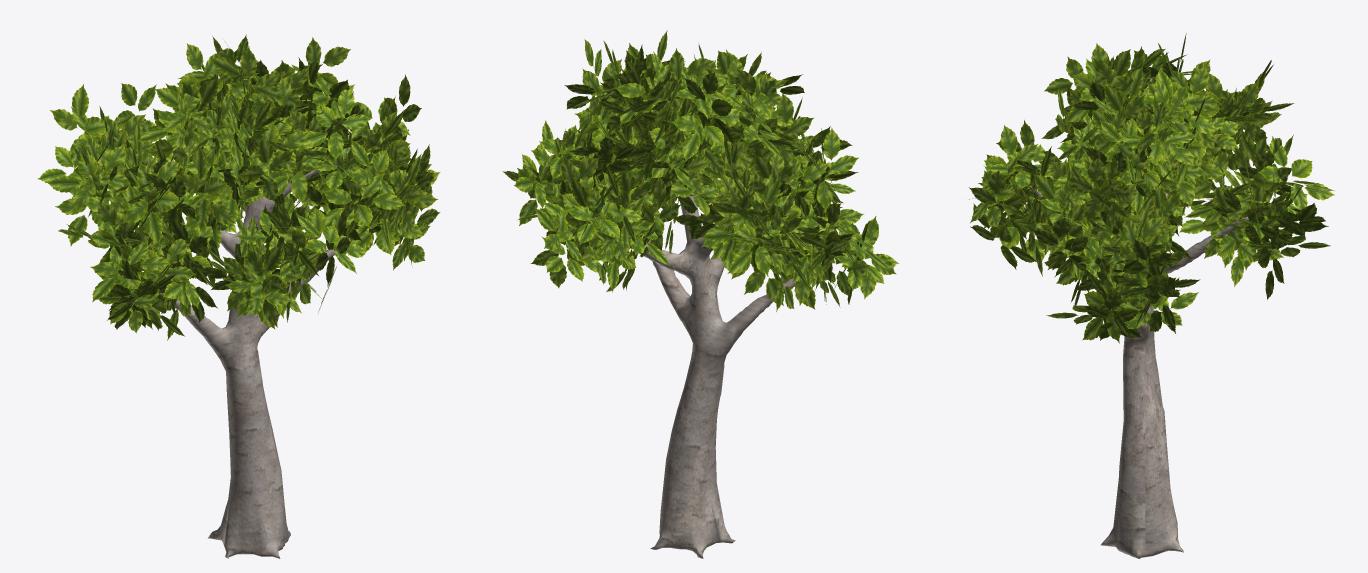
File: cincis-beech-rooted-low-study.glb
The picture shows the model from 3 angles, left to right: view 1: azimuth 30°, elevation 25°; view 2: azimuth 150°, elevation 25°; view 3: azimuth 270°, elevation 25°; orthographic projection.
Visible parts, largest first — view 1: Foliage, Trunk and branches; view 2: Foliage, Trunk and branches; view 3: Foliage, Trunk and branches.
Part boxes in pixels (left/top/right/bottom): Foliage: left=37, top=34, right=440, bottom=340; Trunk and branches: left=159, top=144, right=364, bottom=558; Foliage: left=502, top=30, right=899, bottom=311; Trunk and branches: left=644, top=193, right=796, bottom=558; Foliage: left=969, top=33, right=1334, bottom=346; Trunk and branches: left=1029, top=185, right=1248, bottom=558.
Bounding box in the file's own units: 6.99 × 8.82 × 6.28.
Materials: 2 (2 with a texture image).
